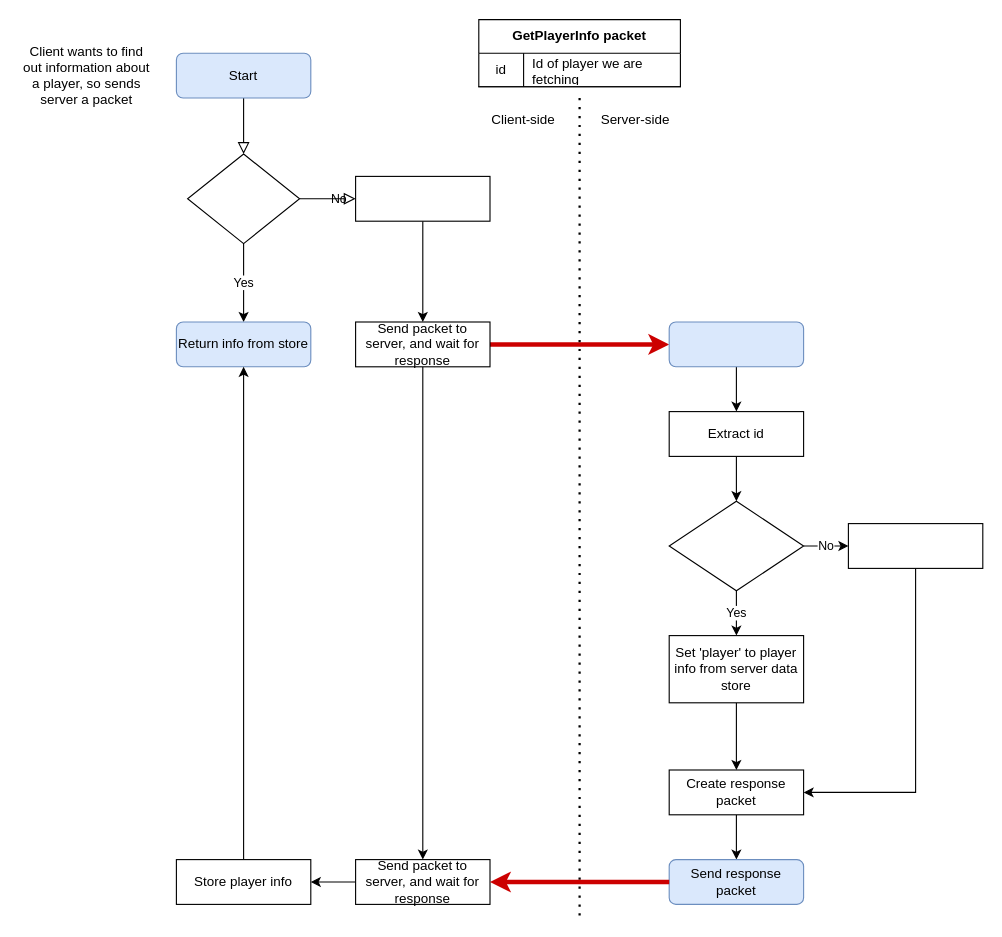
The diagram is 1002 pixels wide and 937 high, and some of its shapes have lost their labels. The centre of each missing label's shape, as x and y in pixels:
"Create GetPlayerInfo packet, supply id" belongs at (422,198).
"Does player with that id exist?" belongs at (736,545).
"Is player info in memory store?" belongs at (243,198).
"Receive packet" belongs at (736,344).
"Set 'player' to null." belongs at (915,545).
